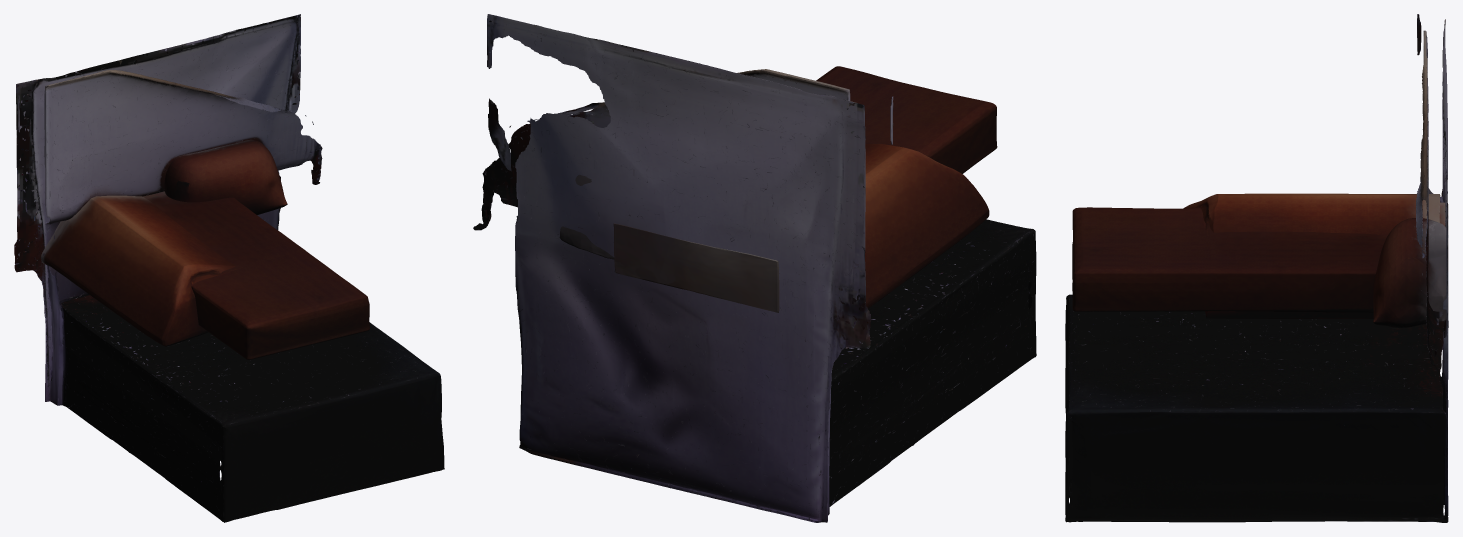
Rendered from prediction.glb.
3 views of the same model, side by side, from view 1: azimuth 30°, elevation 25°; view 2: azimuth 150°, elevation 25°; view 3: azimuth 270°, elevation 25° (orthographic). The views are drawn at different scales.
Visible parts, largest first — view 1: 0_geometry_0, 2_geometry_0, 3_geometry_0, 1_geometry_0; view 2: 0_geometry_0, 2_geometry_0, 3_geometry_0, 1_geometry_0; view 3: 0_geometry_0, 2_geometry_0, 3_geometry_0, 1_geometry_0.
Boxes of the visible parts, x1,y1,x2,y2 form: 0_geometry_0: [14, 14, 444, 522]; 2_geometry_0: [143, 191, 369, 359]; 3_geometry_0: [41, 195, 235, 346]; 1_geometry_0: [164, 139, 287, 214]; 0_geometry_0: [473, 14, 1036, 522]; 2_geometry_0: [613, 66, 997, 312]; 3_geometry_0: [865, 144, 989, 308]; 1_geometry_0: [559, 175, 614, 259]; 0_geometry_0: [1065, 14, 1448, 522]; 2_geometry_0: [1072, 202, 1448, 313]; 3_geometry_0: [1183, 193, 1440, 318]; 1_geometry_0: [1373, 218, 1447, 327].
Bounding box in the file's own units: 0.9949 × 1 × 0.954.
4 materials, 4 textured.
